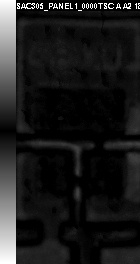led: (35, 87, 126, 198)
